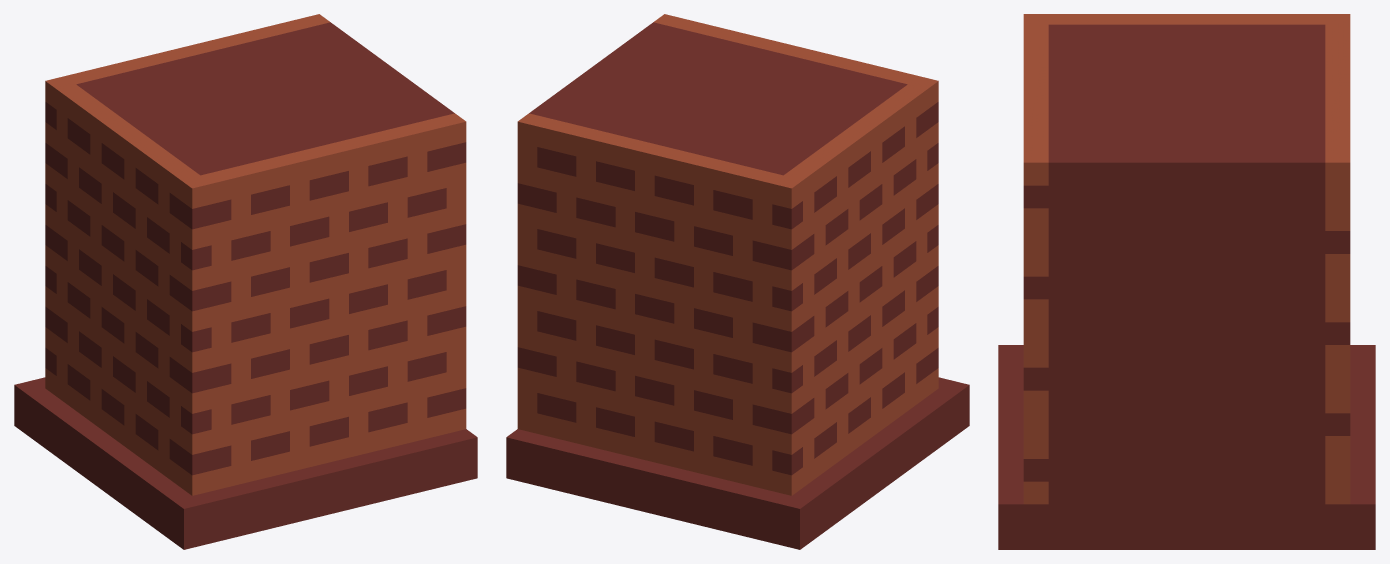
File: dungeon_b_b_inner_wall_ending.obj
3 views of the same model, side by side, from view 1: azimuth 30°, elevation 25°; view 2: azimuth 150°, elevation 25°; view 3: azimuth 270°, elevation 25° (orthographic). The views are drawn at different scales.
Bounding box in the file's own units: 1.5 × 1.7 × 1.5.
1 material, 1 textured.
